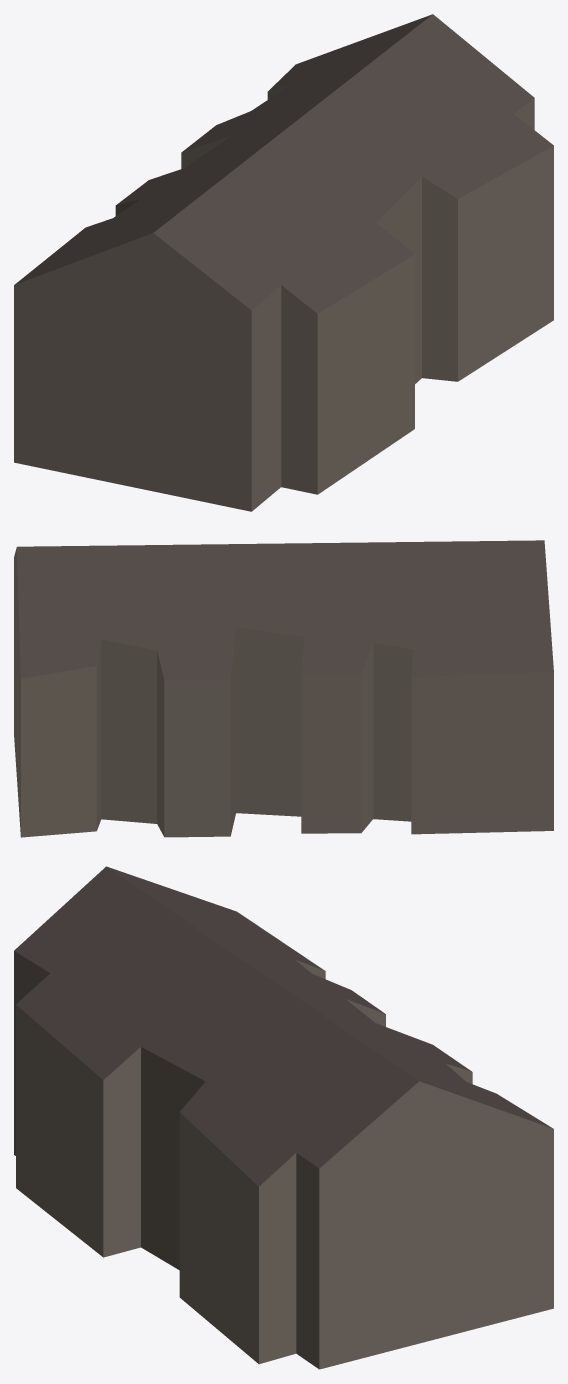
3 renders of one model, top to bottom at view 1: azimuth 30°, elevation 25°; view 2: azimuth 150°, elevation 25°; view 3: azimuth 270°, elevation 25°, orthographic. The views are drawn at different scales.
Parts seen in each view (by area): view 1: HP-w1516161943; view 2: HP-w1516161943; view 3: HP-w1516161943.
Part boxes in pixels (<box>): HP-w1516161943: <box>14,14,553,511</box>; HP-w1516161943: <box>14,540,553,837</box>; HP-w1516161943: <box>14,866,553,1369</box>.
Bounding box in the file's own units: 30.25 × 13.31 × 24.84.
